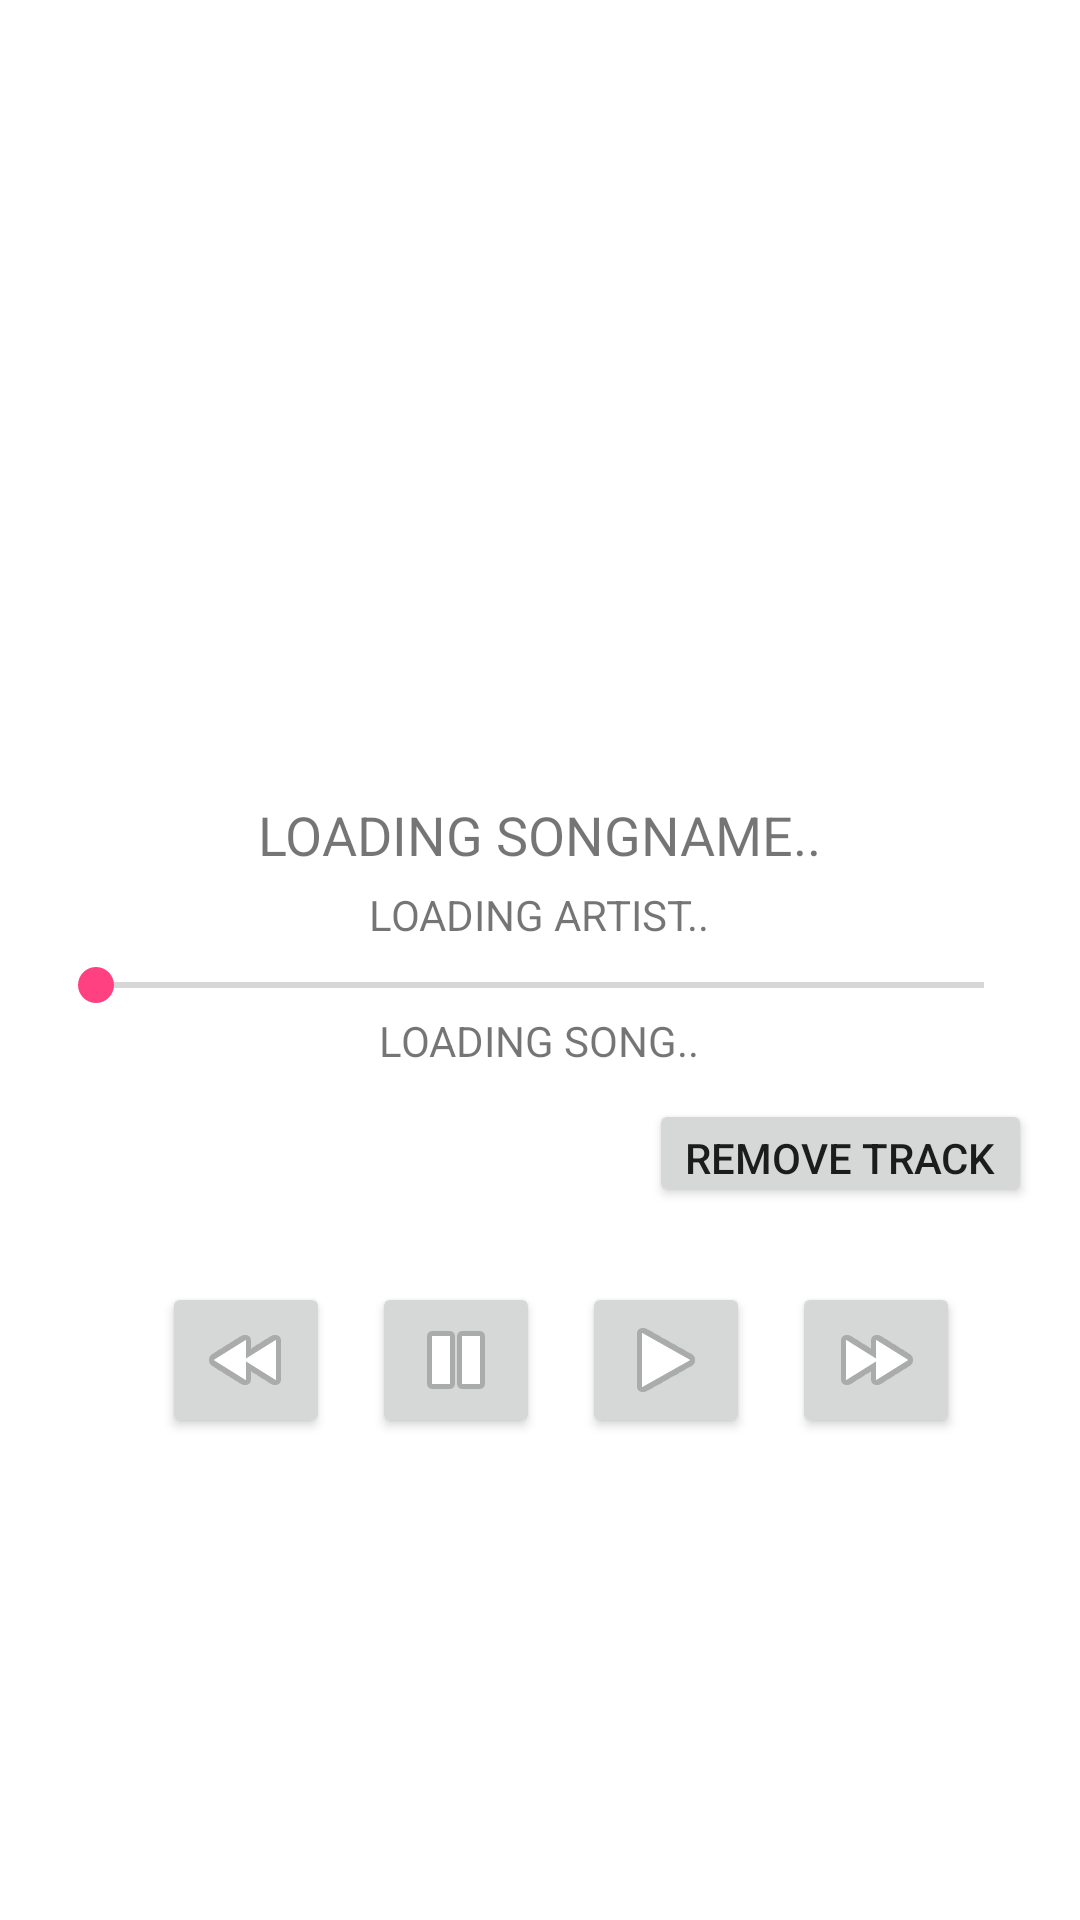

Where to tap for icons on this 1080×1920 app screen, as (x=x, y=y):
pause: (x=456, y=1362)
play: (x=666, y=1362)
rew: (x=245, y=1362)
